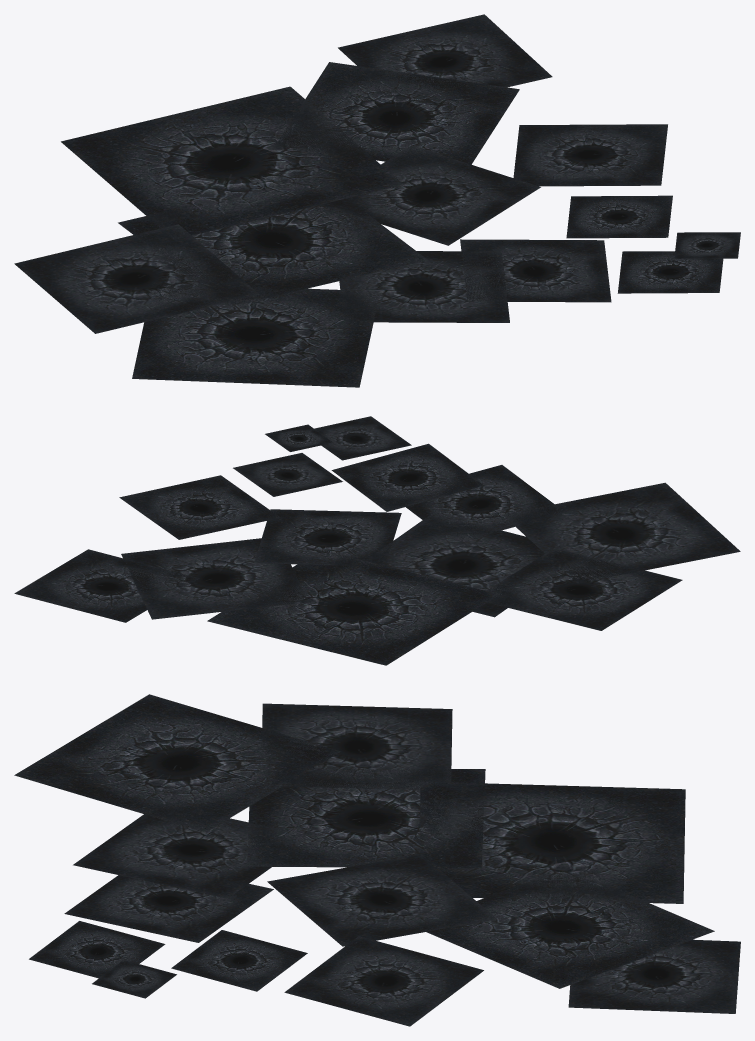
File: Magician_stabholes.FBX
The picture shows the model from 3 angles, top to bottom: view 1: azimuth 30°, elevation 25°; view 2: azimuth 150°, elevation 25°; view 3: azimuth 270°, elevation 25°; orthographic projection. The views are drawn at different scales.
Parts seen in each view (by area): view 1: Plane013; view 2: Plane013; view 3: Plane013.
Part boxes in pixels (x1,y1,x2,y2): Plane013: [14, 14, 740, 387]; Plane013: [14, 416, 740, 665]; Plane013: [14, 694, 740, 1026].
Bounding box in the file's own units: 27.9 × 1.58e-15 × 25.79.
